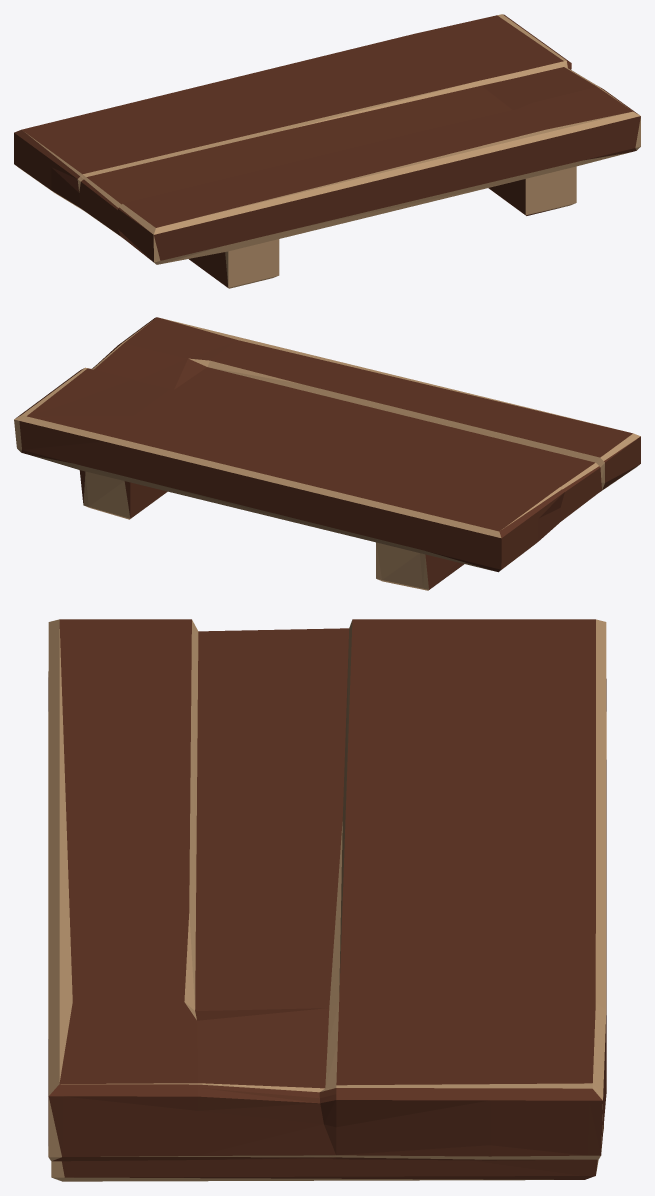
Rendered from MCastle_WoodPlatfrm_01.FBX.
3 views of the same model, one above another, from view 1: azimuth 30°, elevation 25°; view 2: azimuth 150°, elevation 25°; view 3: azimuth 270°, elevation 25° (orthographic). The views are drawn at different scales.
Visible parts, largest first — view 1: MCastle_WoodPlatfrm_01_LOD0; view 2: MCastle_WoodPlatfrm_01_LOD0; view 3: MCastle_WoodPlatfrm_01_LOD0.
Part boxes in pixels (x1,y1,x2,y2): MCastle_WoodPlatfrm_01_LOD0: [14, 14, 640, 288]; MCastle_WoodPlatfrm_01_LOD0: [14, 317, 640, 590]; MCastle_WoodPlatfrm_01_LOD0: [48, 619, 606, 1181].
Size of what is drawn, in the model's own units: 4.04 by 0.6243 by 2.
